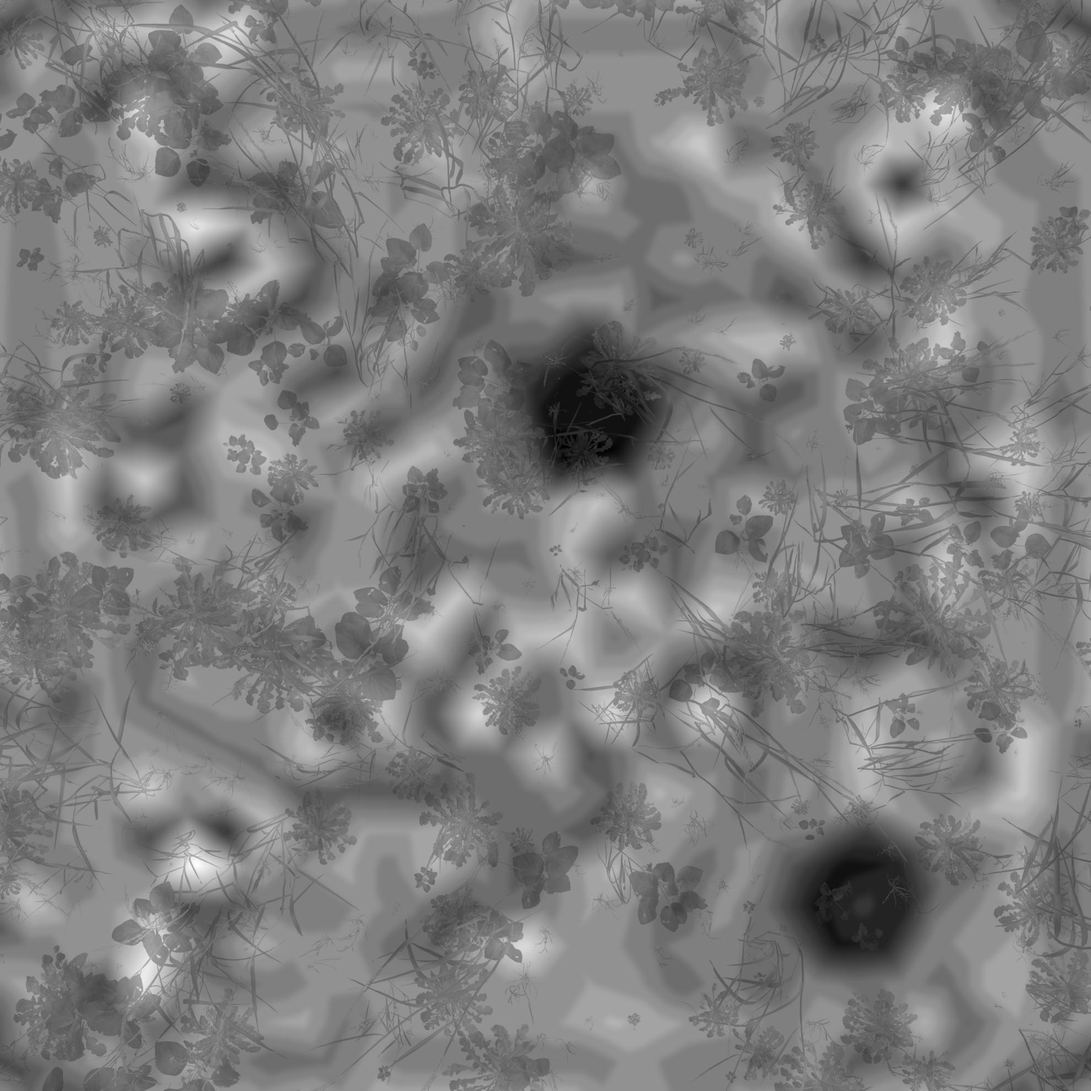landmine: (518, 326, 665, 484), (792, 829, 922, 966)
